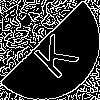K: (25, 25, 80, 81)
